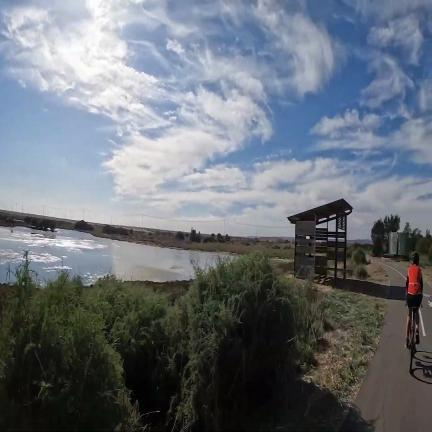Bike_Lane: (355, 264, 432, 432)
